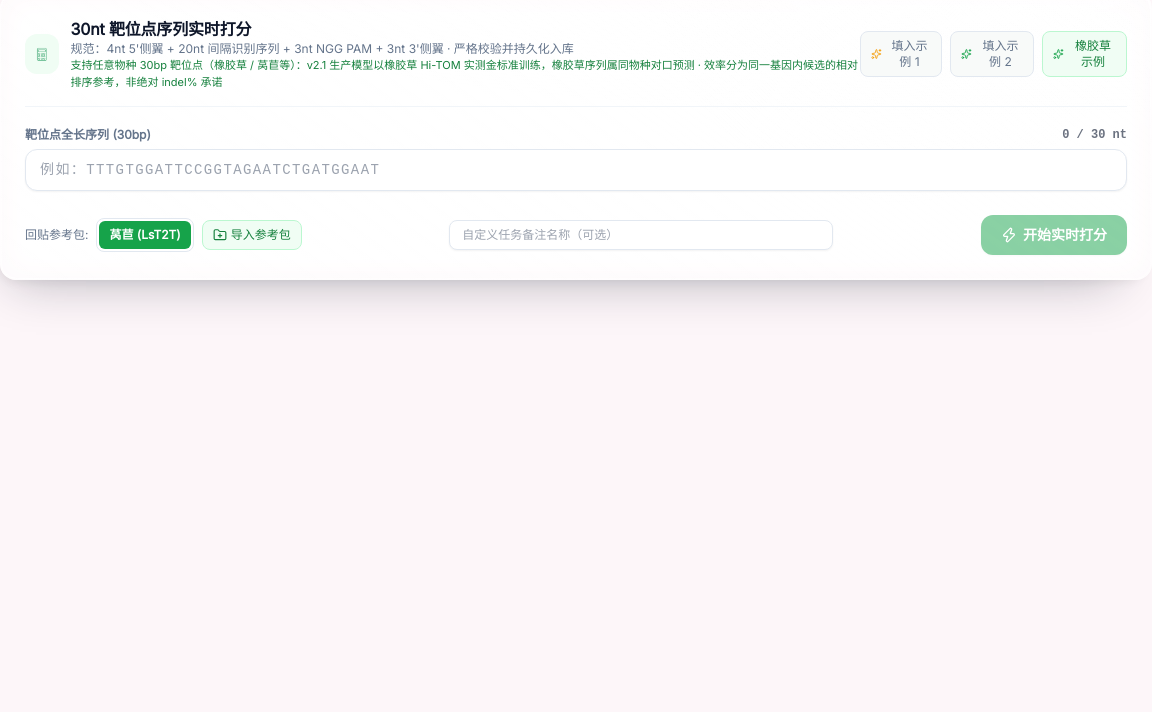
SingleScoringCard › renders expression fitness panel with poly-T warning, G-start and MFE
Click the button "填入示例 1" at (901,54), box [860,30,942,76]
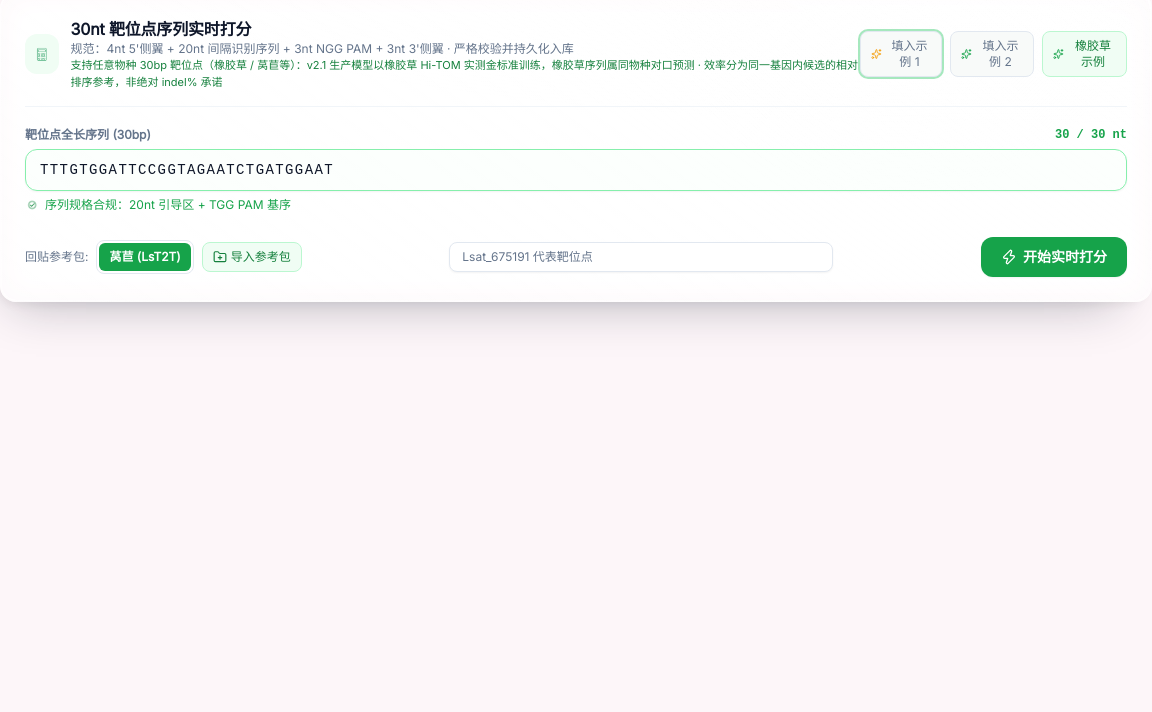
Click the button "开始实时打分" at (1054,257), box [981,237,1127,277]
(page scrolled)
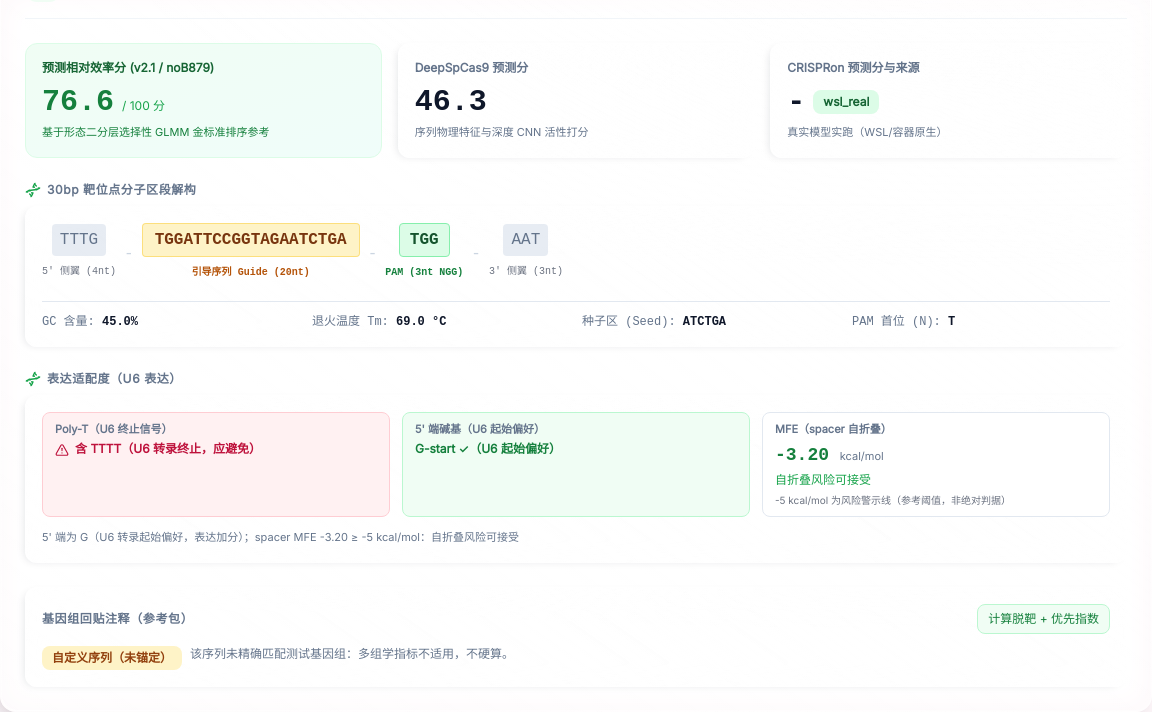
Check: the text "含 TTTT（U6 转录终止，应避免）" is shown, box [75,440,261,456]
Check: the text "G-start ✓（U6 起始偏好）" is shown, box [415,440,561,456]
Check: the text "自折叠风险可接受" is shown, box [775,472,871,486]
